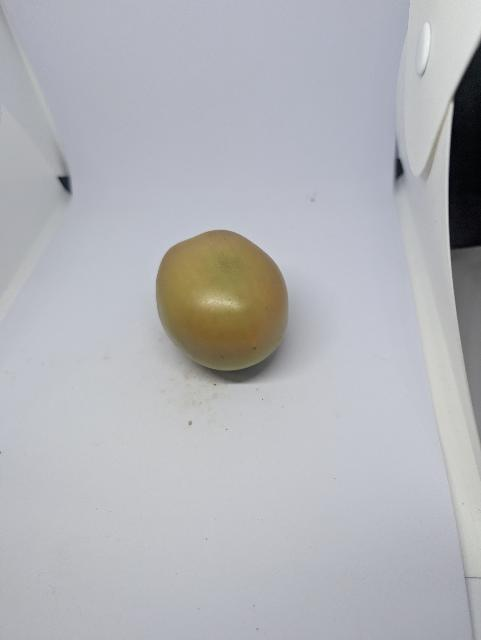breaker: (158, 222, 292, 376)
